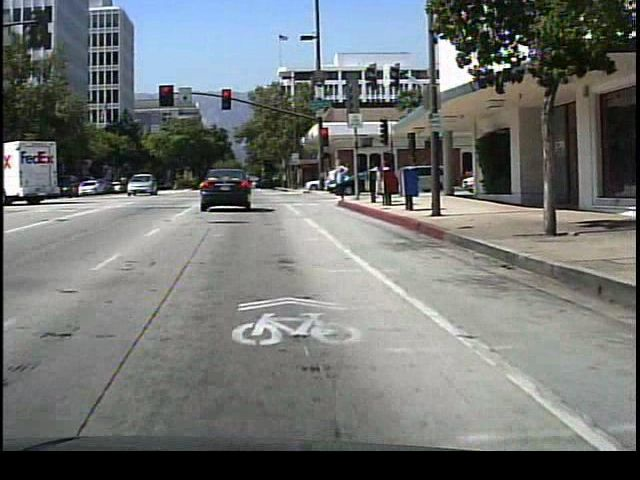person: (330, 152, 352, 205), (363, 158, 381, 196)
